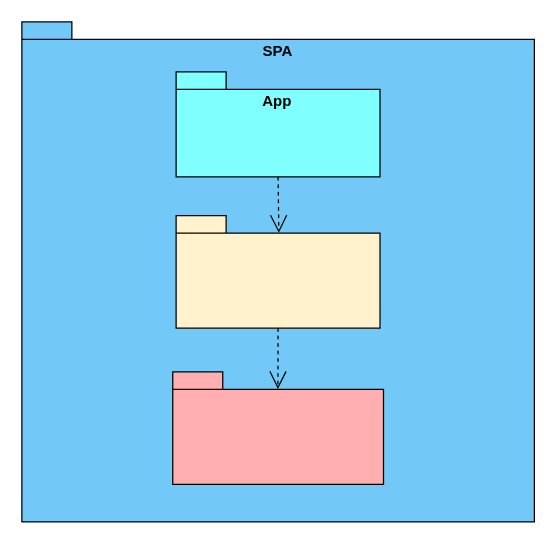
This 556x544 diagram has some shape labels left out. The shapes that lost their labels are listed below. From the top down, each one's centre as x and y in pixels, then its label:
At (277,271): "ServiceInfo".
At (278,427): "DataModel".
